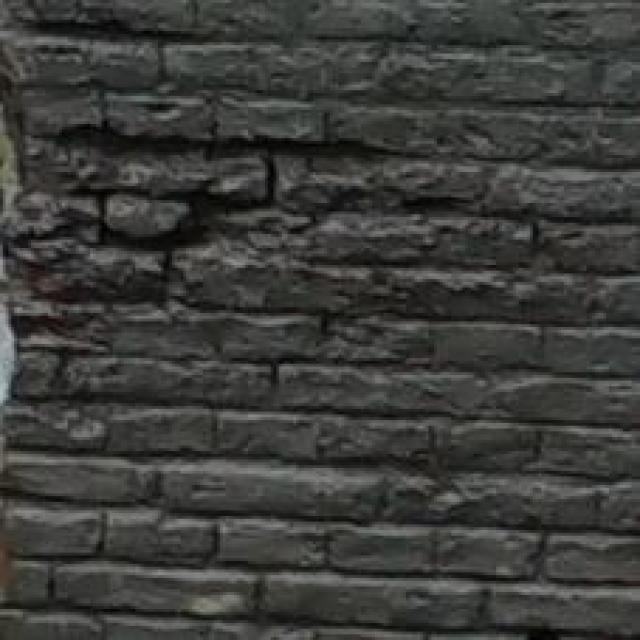Crack: (39, 101, 341, 366)
